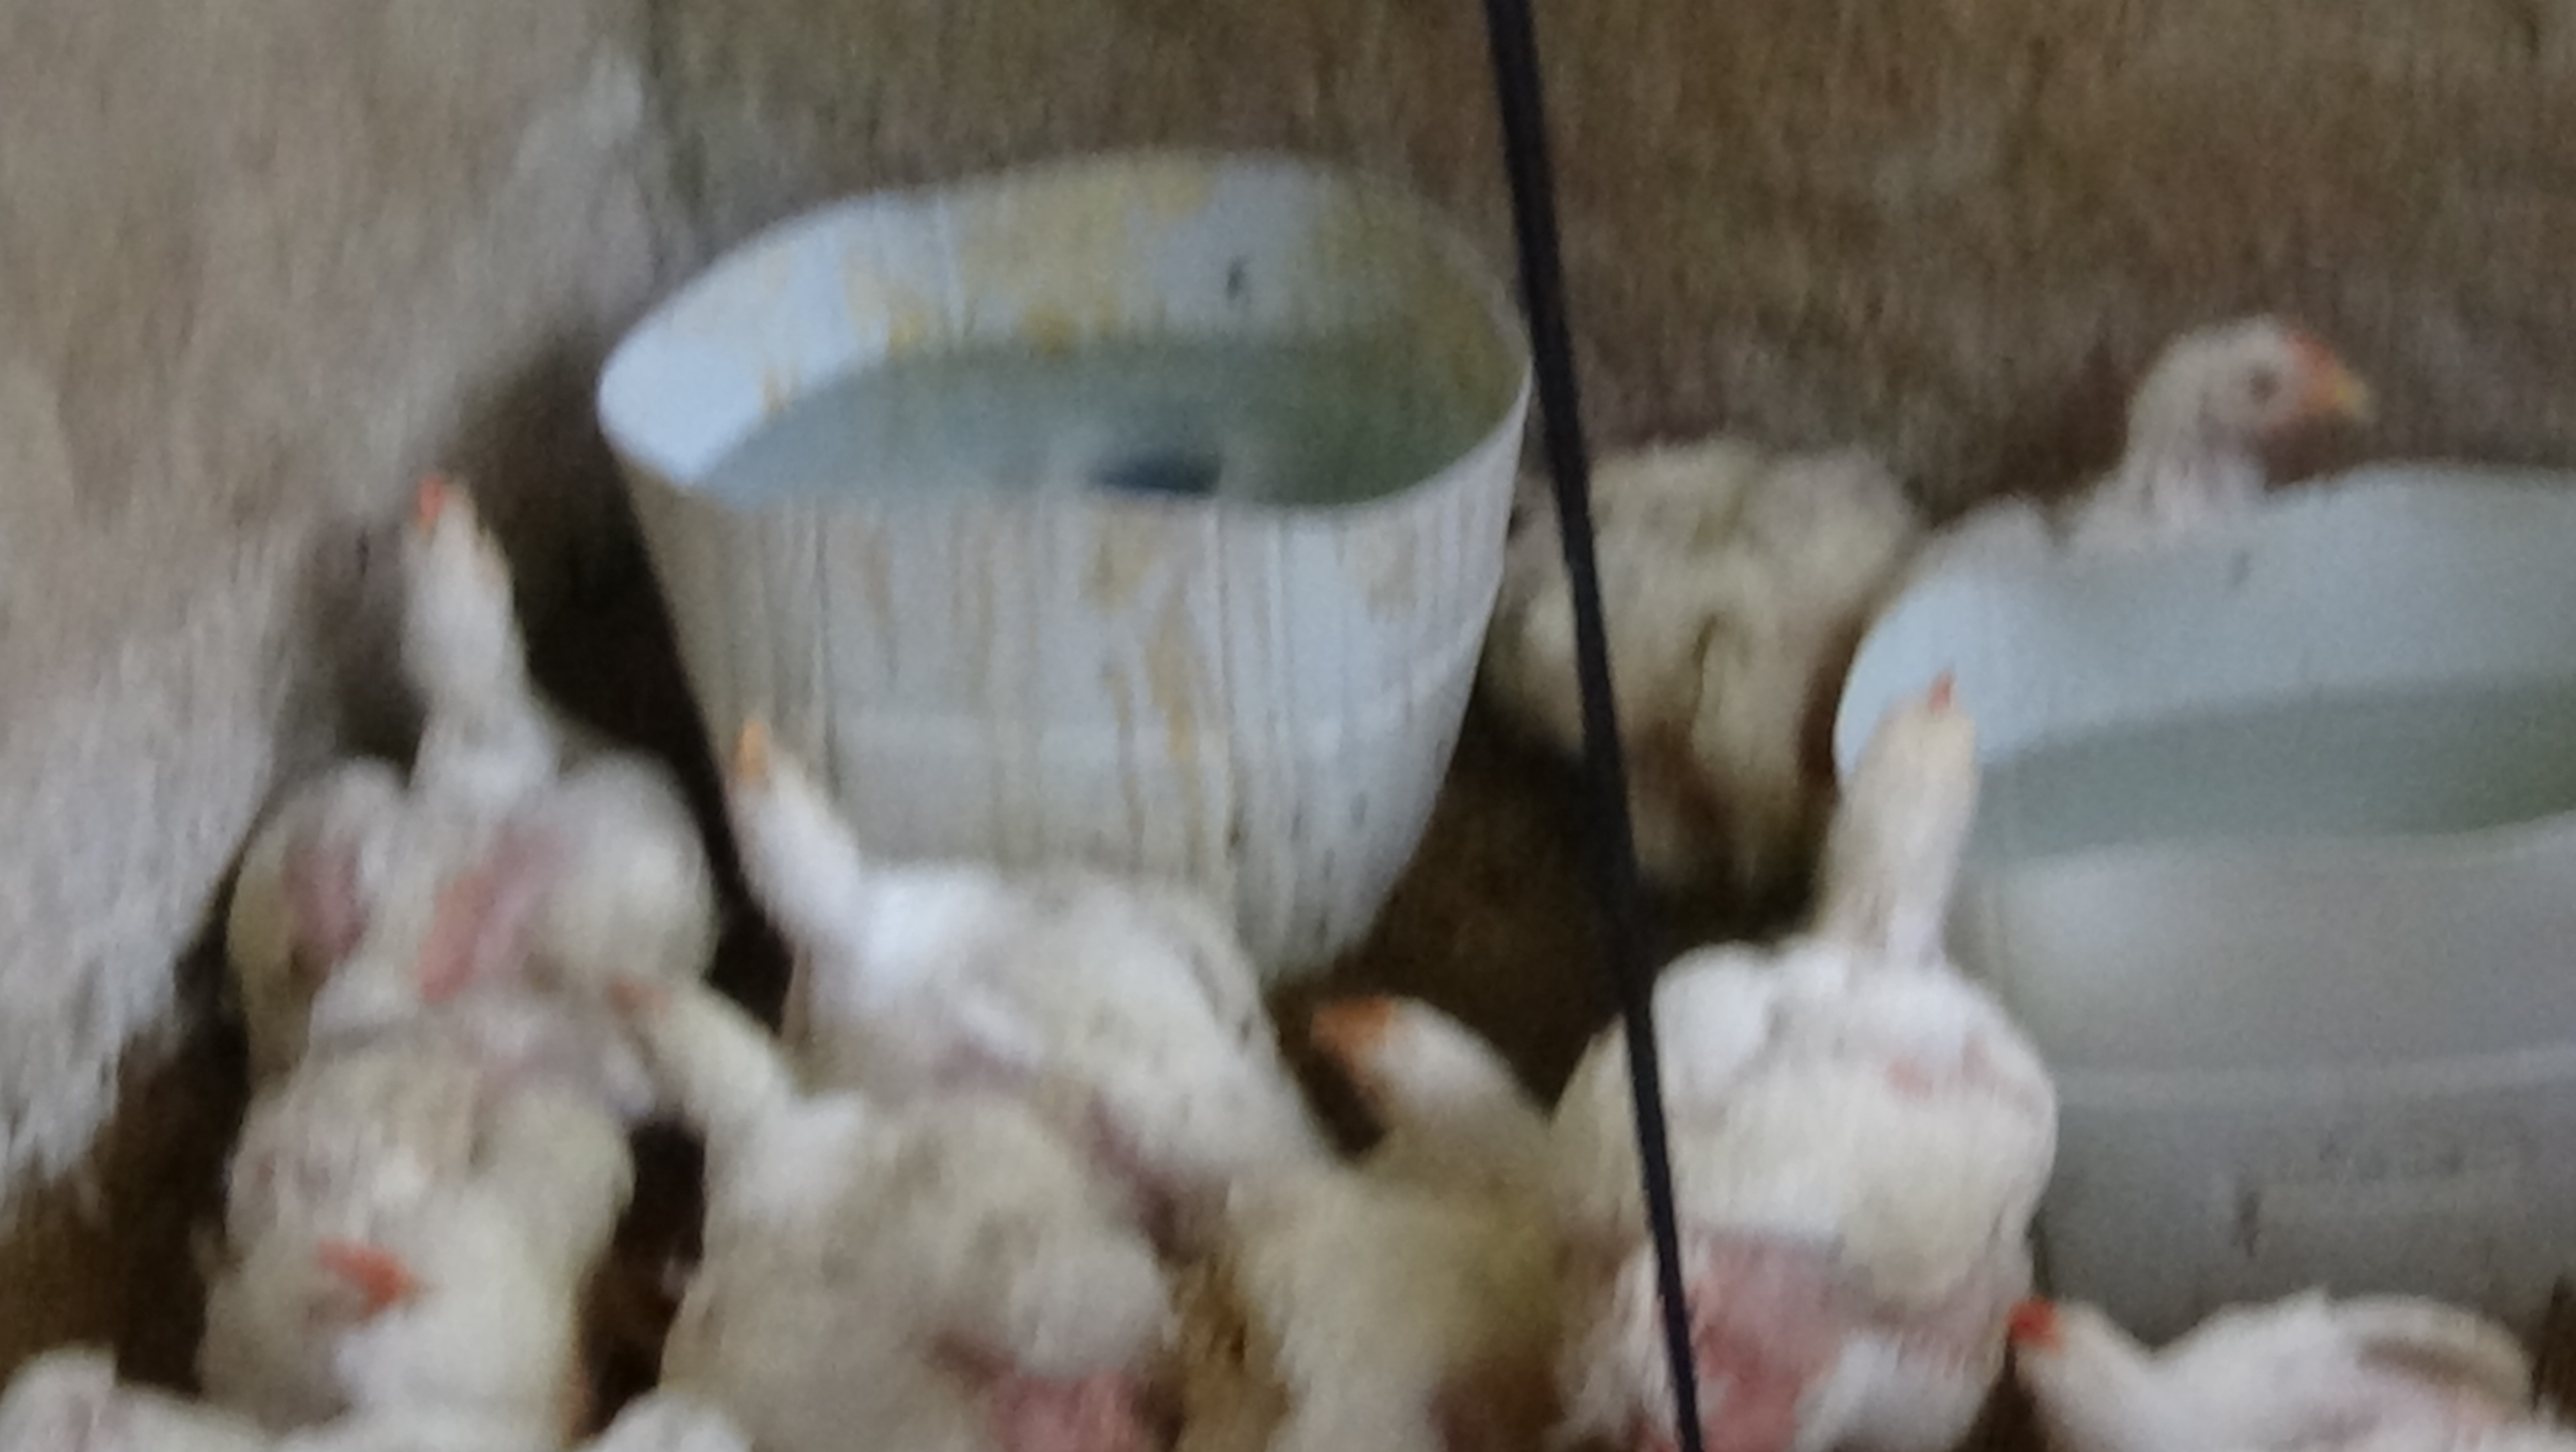Pollos: (1553, 657, 2066, 1452), (559, 908, 1166, 1365), (232, 448, 718, 970), (722, 692, 1265, 1094), (193, 1027, 626, 1388), (1983, 1220, 2576, 1452), (2059, 273, 2397, 567), (1251, 935, 1553, 1247)
